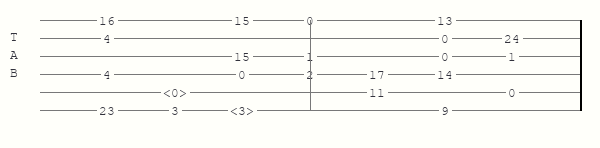0: (238, 68, 250, 80), (306, 14, 318, 26), (441, 50, 453, 62), (441, 32, 453, 44), (508, 86, 520, 98)
1: (306, 50, 318, 62), (508, 50, 520, 62)
11: (369, 86, 389, 98)
13: (437, 14, 457, 26)
14: (437, 68, 457, 80)
15: (234, 14, 254, 26), (234, 50, 254, 62)
16: (99, 14, 119, 26)
17: (369, 68, 389, 80)
2: (306, 68, 318, 80)
23: (99, 104, 119, 116)
24: (504, 32, 524, 44)
3: (171, 104, 183, 116)
4: (103, 32, 115, 44), (103, 68, 115, 80)
9: (441, 104, 453, 116)
harmonic: (163, 86, 191, 99), (230, 104, 258, 117)
